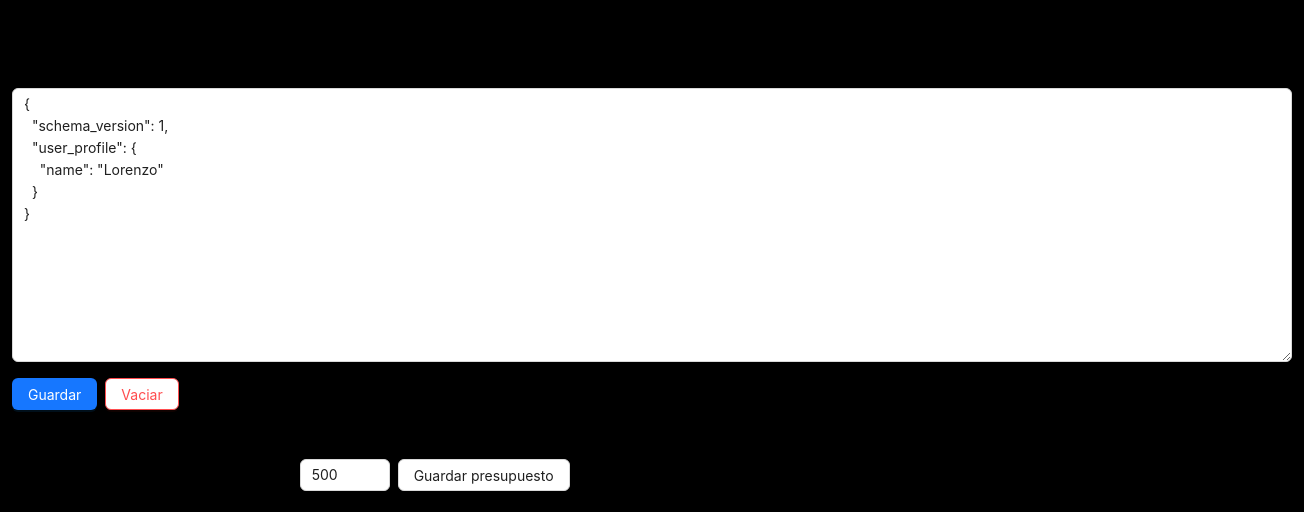
Scenario: PersistentMemoryPanel › avisa al intentar guardar un presupuesto vacío
Clear the number field named "PERSISTENT_MEMORY_BUDGET_TOKENS" at {"x": 345, "y": 475}, box 301,460 -> 389,490
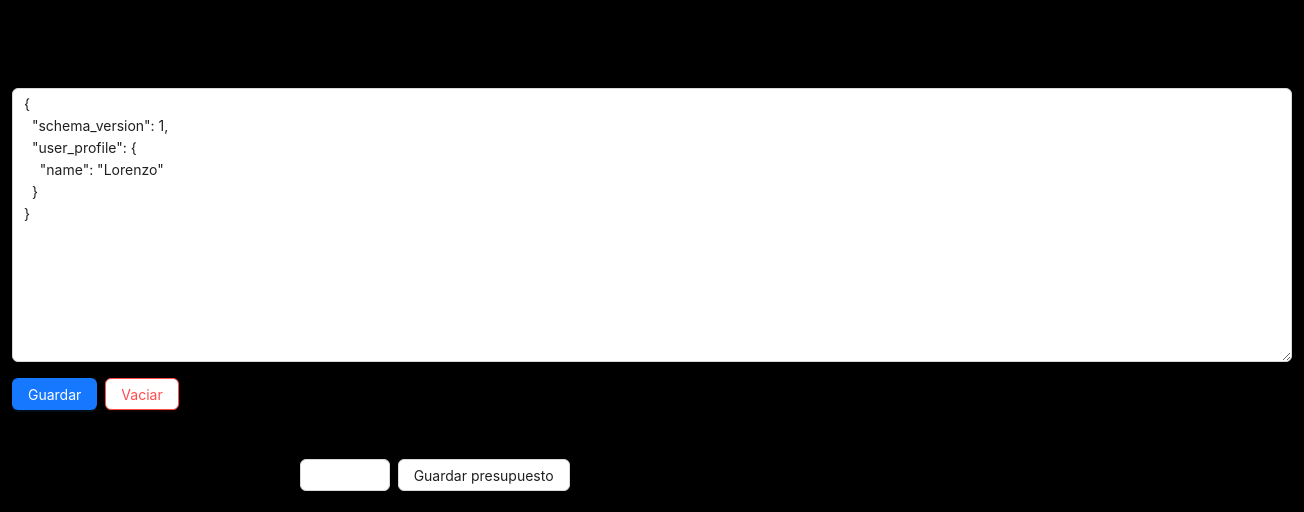
Click the button "Guardar presupuesto" at {"x": 484, "y": 475}, box 398,459 -> 570,491
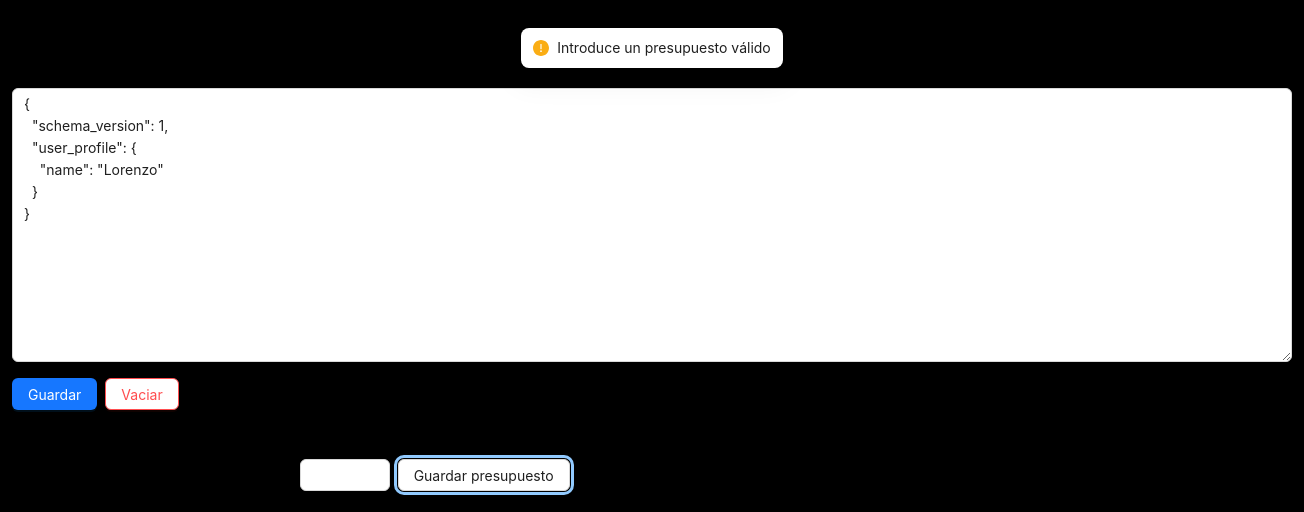
Check: the text "Introduce un presupuesto válido" is shown, box 557,37 -> 771,59
